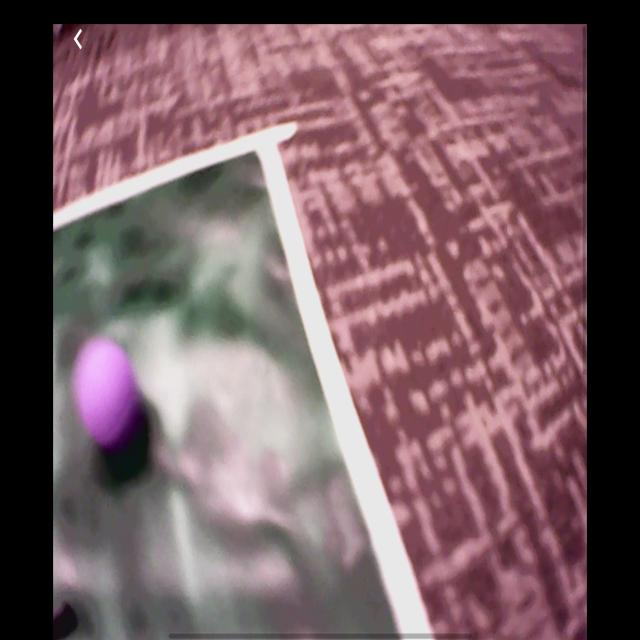ball: (72, 336, 142, 452)
